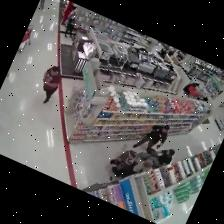person: (110, 151, 157, 177), (133, 125, 168, 148), (42, 66, 60, 102), (155, 149, 173, 167), (64, 16, 74, 37), (39, 0, 43, 10)
